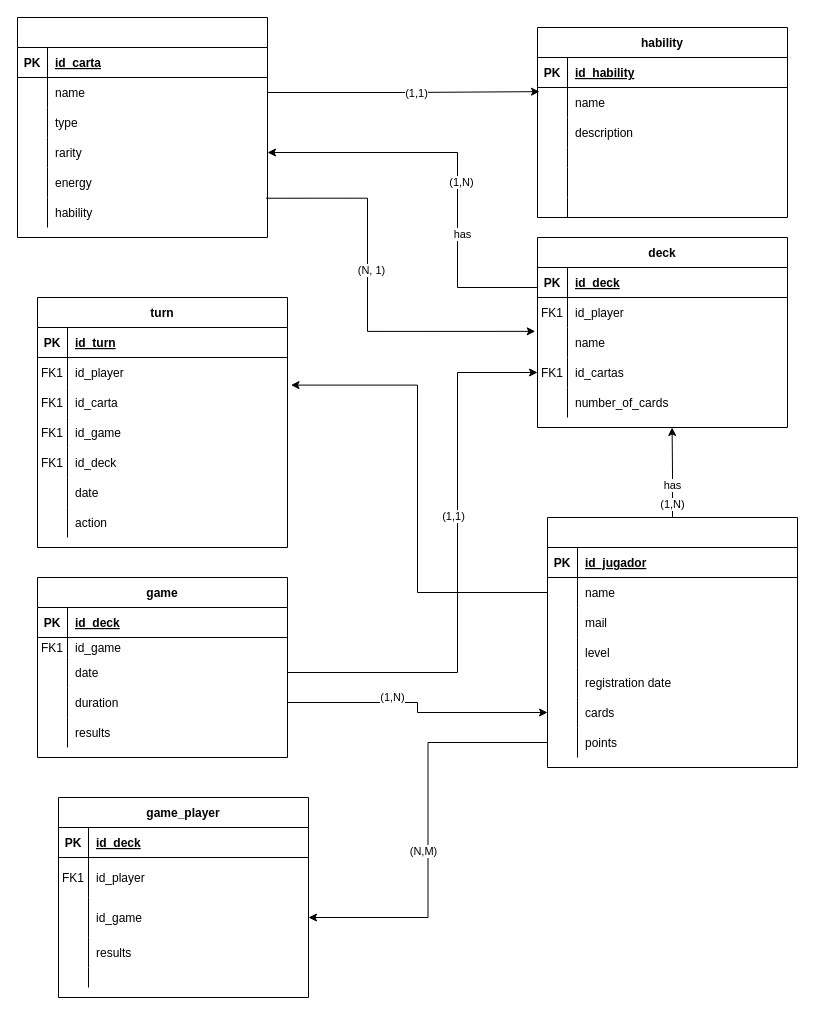
Image size: 815x1015. Some labels were removed from this diagram. The box of each missing label's shape, as (x1, y1, x2, y2) in pixels:
card: (16, 16, 268, 238)
player: (546, 516, 798, 768)
